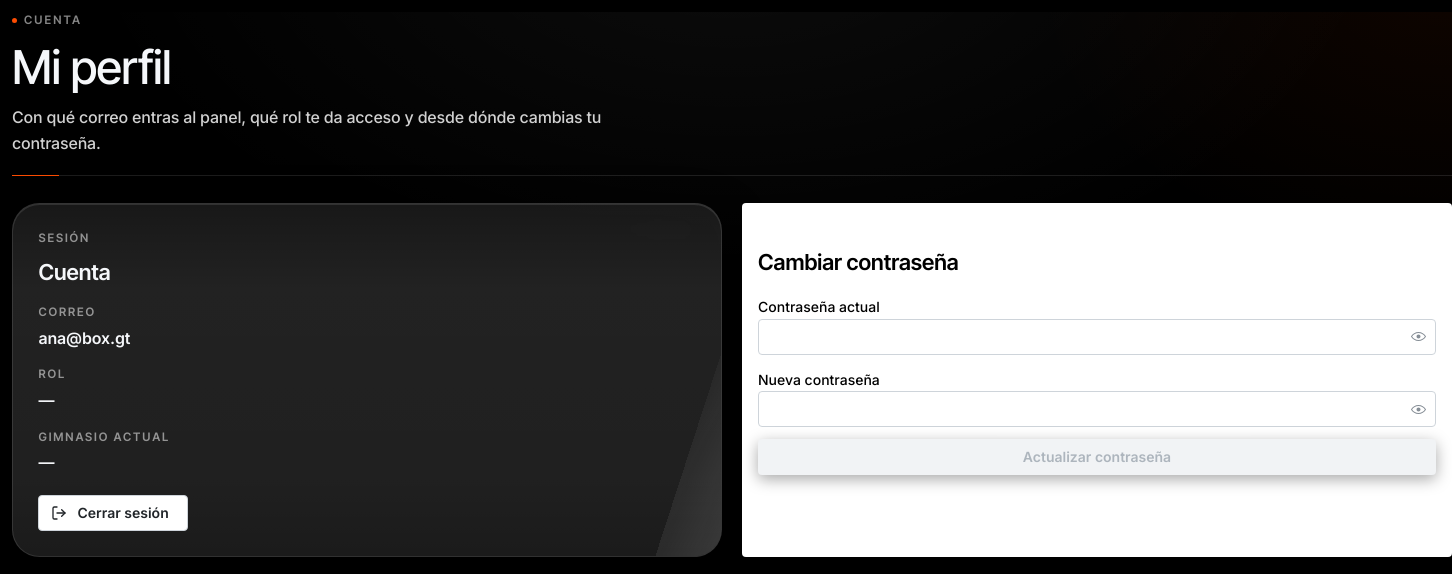
Mi perfil · cambio de contraseña tras un restablecimiento › si la actual no es correcta lo dice sin la clave interna del campo
The width and height of the screenshot is (1452, 574).
In the password field labelled "Contraseña actual": (1097, 336) [759,320,1435,354], type "incorrecta"
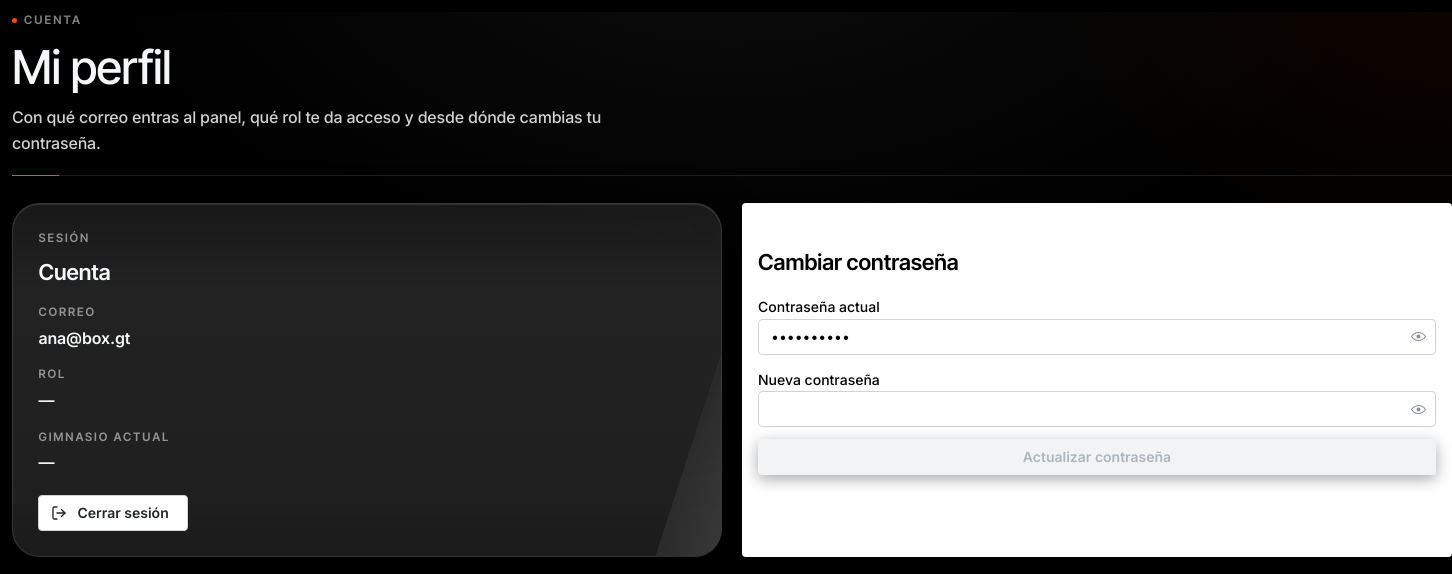
In the password field labelled "Nueva contraseña": (1097, 409) [759,392,1435,426], type "nueva-segura-2026"
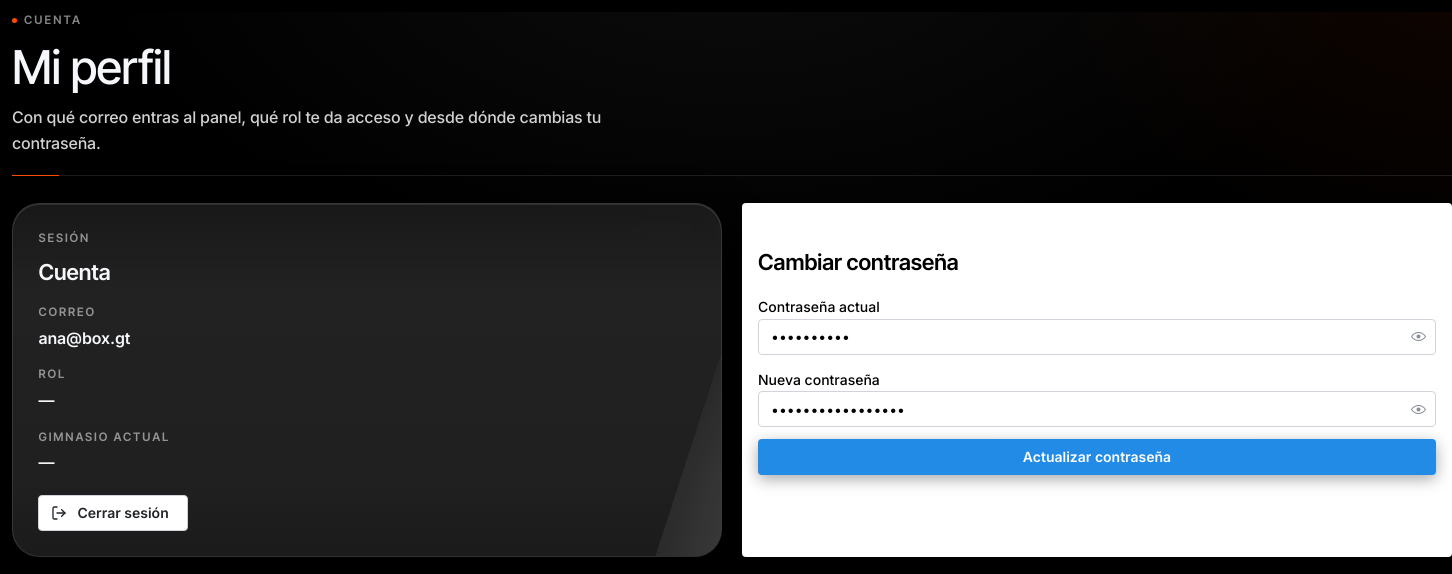
Click the button "Actualizar contraseña": (1097, 457) [758,439,1436,475]
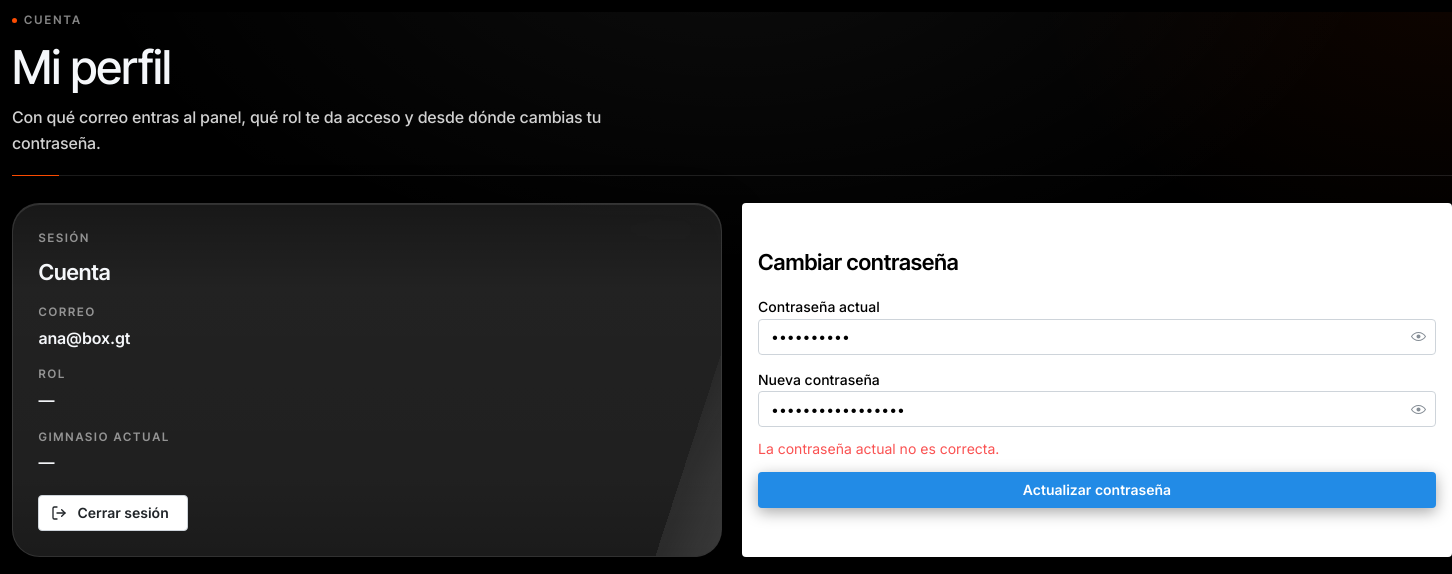
Now the text "La contraseña actual no es correcta." is shown, box [758,440,999,457]
